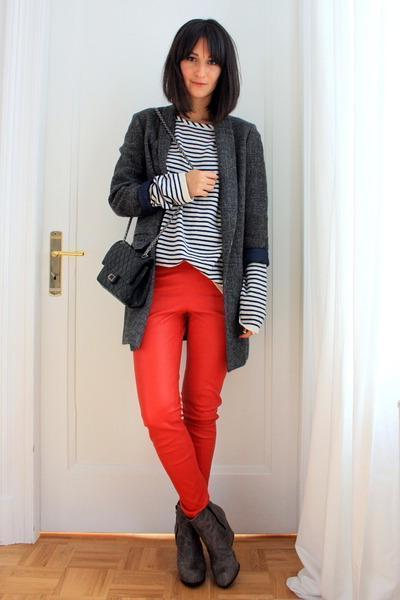jacket: (106, 103, 272, 373)
long sleeve shirt: (152, 115, 268, 335)
trousers: (127, 264, 239, 520)
